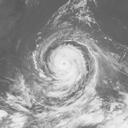cyclone: (48, 43, 88, 82)
